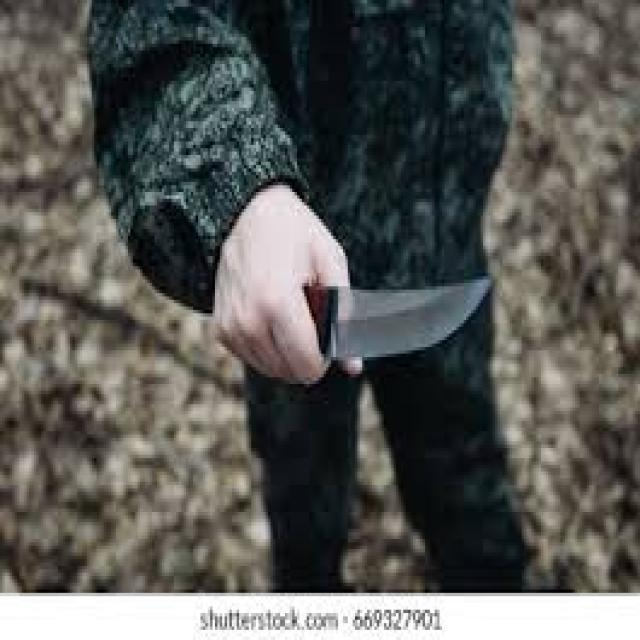faca: (200, 212, 490, 394)
